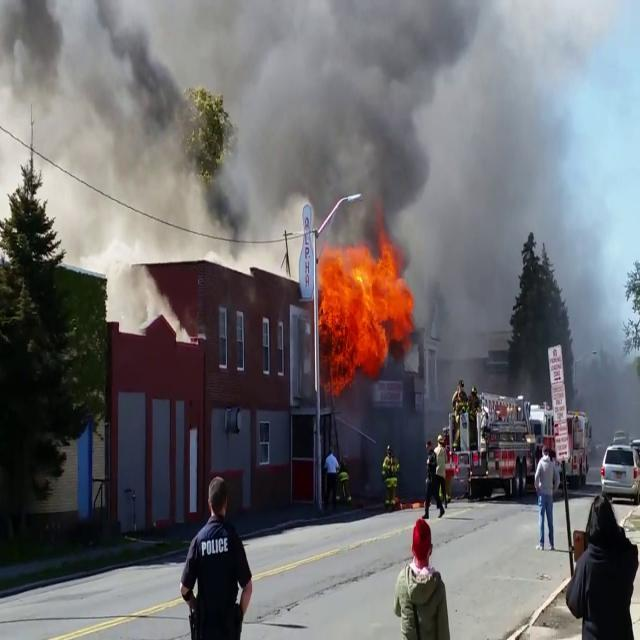Fire: (316, 238, 419, 370)
Smoke: (2, 0, 489, 240)
